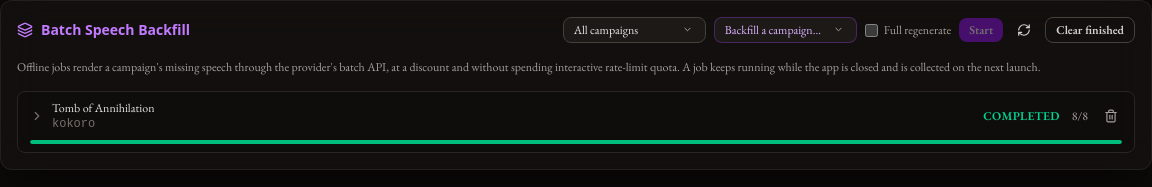
Scenario: TTSBatchPanel › empty states › displays "No batch jobs." when filtered by campaign with no jobs
Expected: the text "Completed" is shown, [983,108,1060,124]
Select "Curse of Strahd" in the 1st dropdown at (634, 30), box [563,17,706,43]
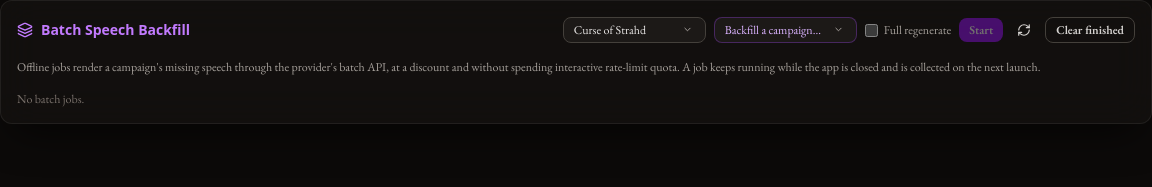
Now the text "No batch jobs." is shown, box [17,91,84,107]
